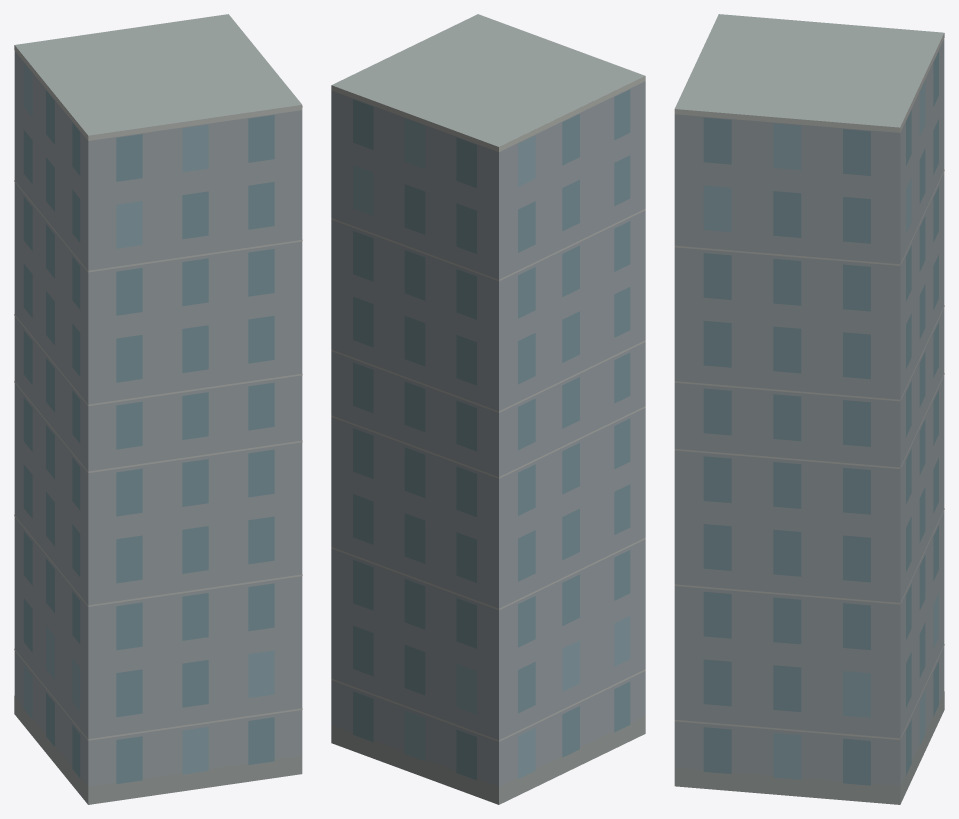
File: survey-upis-32659943.glb
3 views of the same model, side by side, from view 1: azimuth 30°, elevation 25°; view 2: azimuth 150°, elevation 25°; view 3: azimuth 270°, elevation 25° (orthographic). The views are drawn at different scales.
Parts seen in each view (by area): view 1: survey-upis-32659943.tmp; view 2: survey-upis-32659943.tmp; view 3: survey-upis-32659943.tmp.
Boxes of the visible parts, left/top/right/bottom form: survey-upis-32659943.tmp: left=14, top=14, right=302, bottom=804; survey-upis-32659943.tmp: left=331, top=14, right=645, bottom=804; survey-upis-32659943.tmp: left=674, top=14, right=944, bottom=804.
Bounding box in the file's own units: 11.07 × 30.7 × 11.11.
